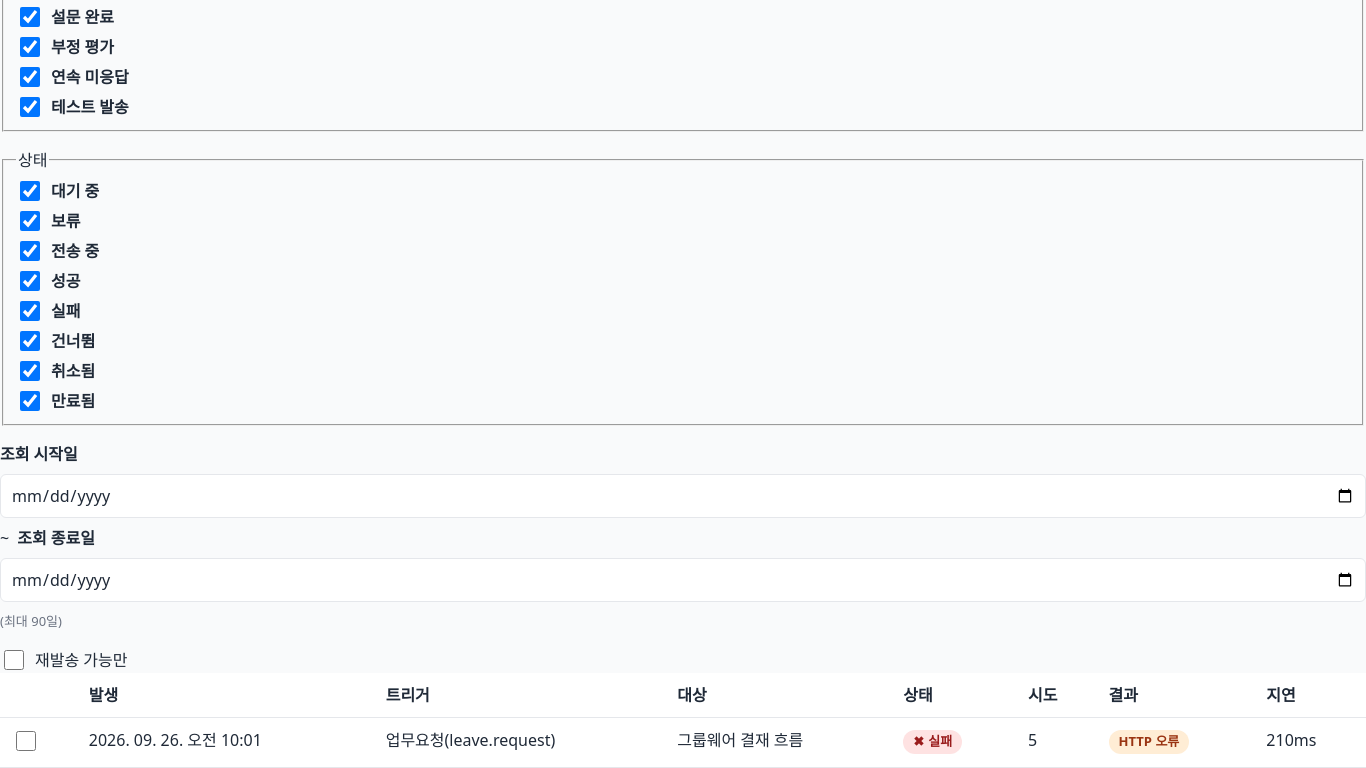
Test: ChatbotWorkflowRunsPage — 재발송/취소 › 실패 건을 선택해 재발송하면 확인 모달 뒤 성공 토스트가 뜨고 목록을 다시 조회한다
The image size is (1366, 768).
(page scrolled)
Expected: the text "그룹웨어 결재 흐름" is shown, [665, 718, 891, 767]
Click the checkbox named "7f1c2e3a-aaaa-4aaa-8aaa-aaaaaaaaaaaa 선택": (26, 741) [16, 731, 36, 751]
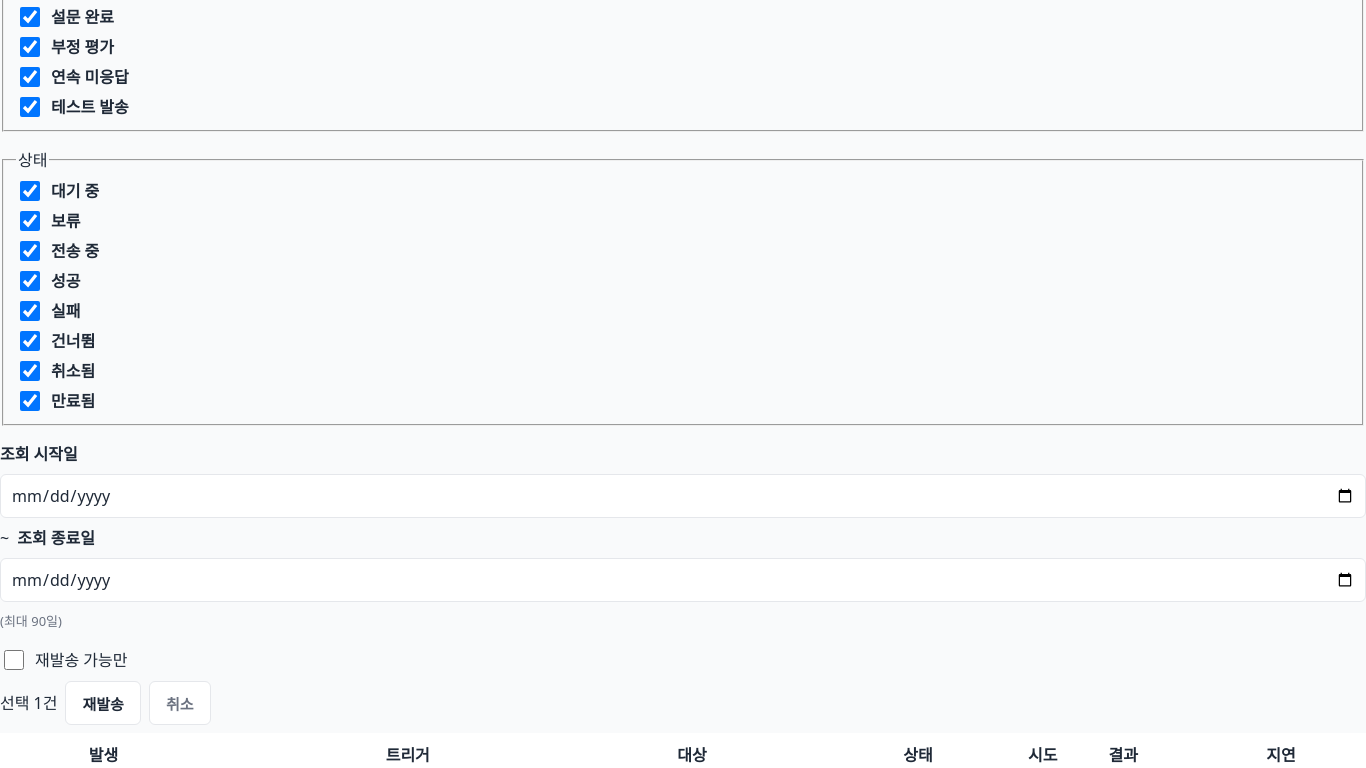
Click the button "재발송": (103, 703) [66, 681, 141, 725]
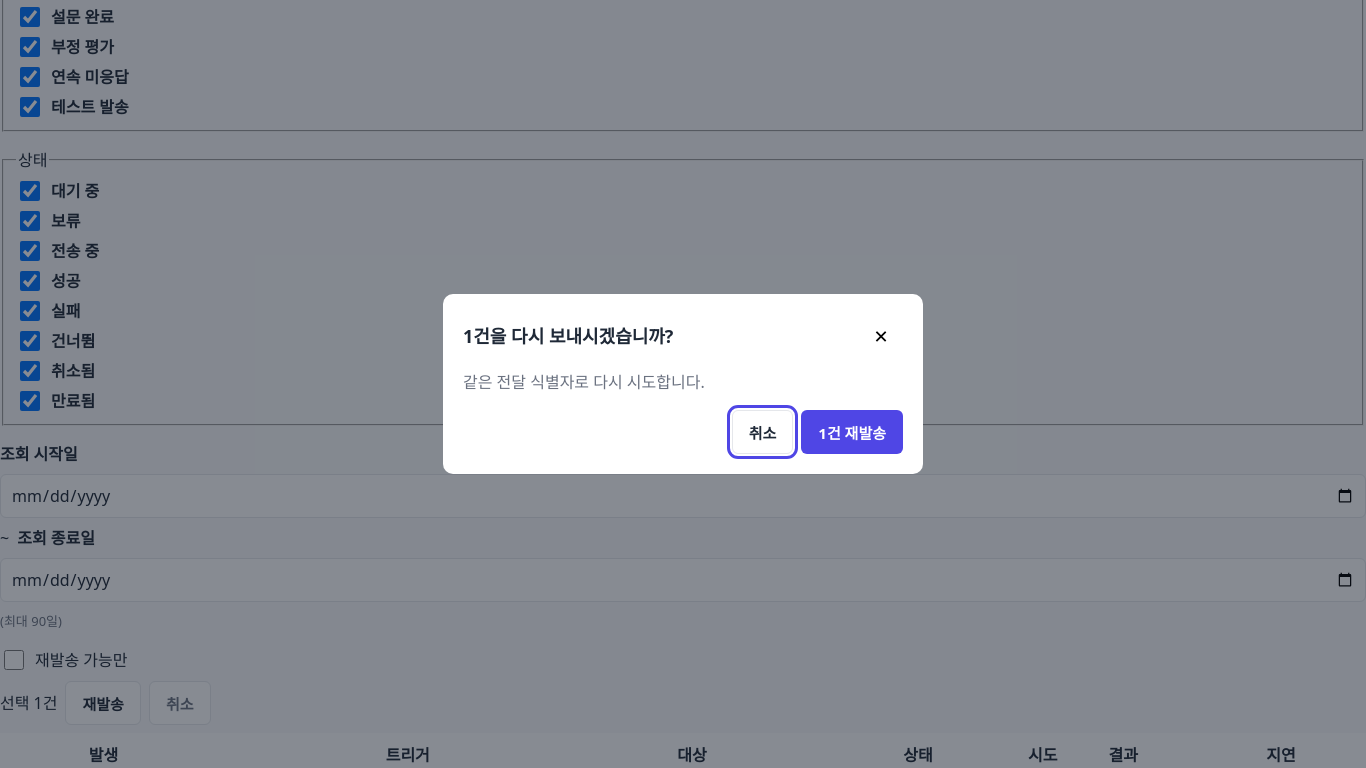
Click the button "1건 재발송": (852, 432) [801, 410, 903, 454]
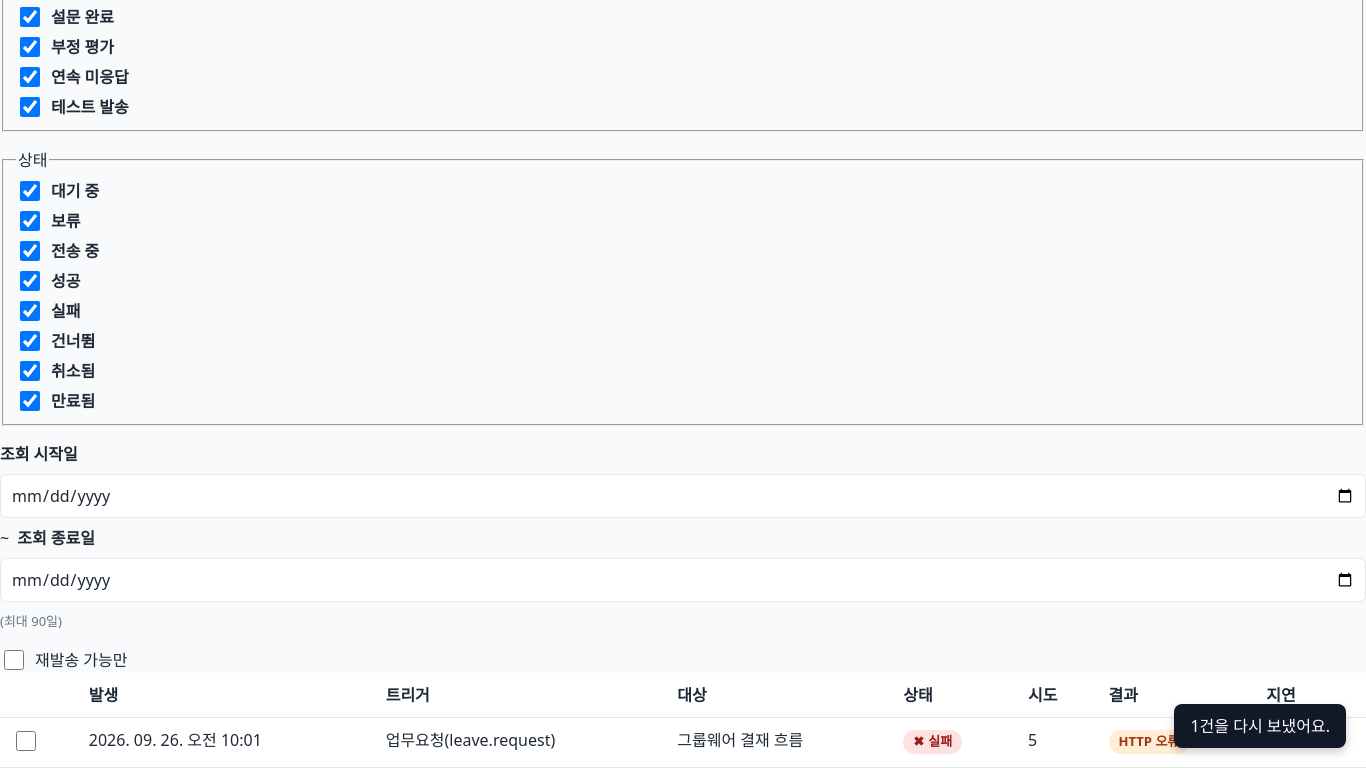
Now the text "1건을 다시 보냈어요." is shown, box [1174, 704, 1346, 748]
